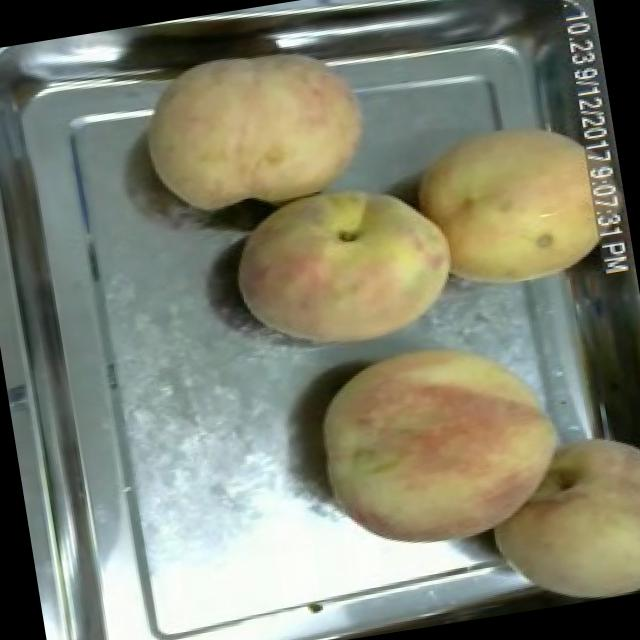Fruit: (298, 316, 585, 571), (128, 22, 386, 230), (217, 166, 470, 372), (398, 101, 630, 308), (468, 414, 640, 616)
